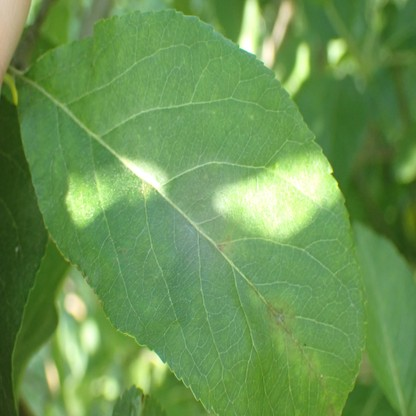scab: (266, 299, 297, 355), (295, 351, 319, 396), (318, 378, 336, 416), (215, 233, 233, 258), (248, 282, 262, 308)
